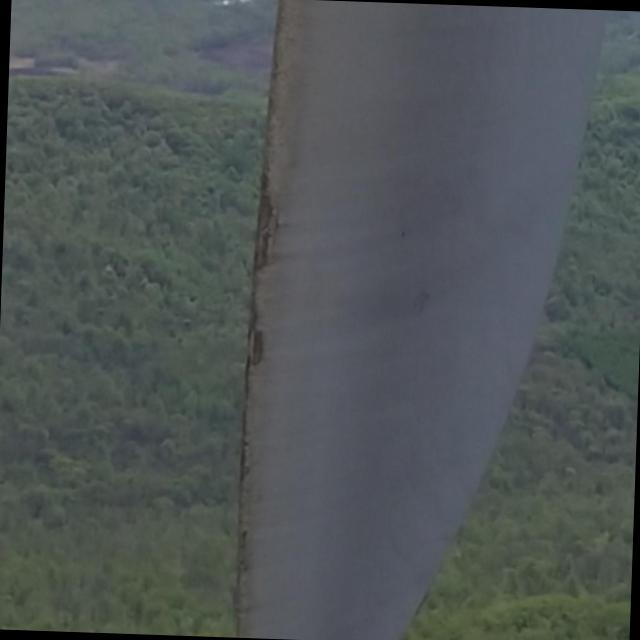corrosion: (230, 329, 264, 635), (246, 182, 281, 272)
